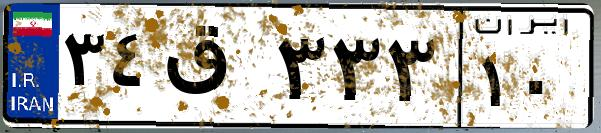0: (525, 38, 570, 115)
1: (475, 38, 525, 113)
3: (270, 28, 330, 110), (385, 28, 445, 110), (330, 28, 385, 110), (57, 26, 110, 100)
4: (110, 28, 158, 98)
ق: (158, 20, 270, 120)
